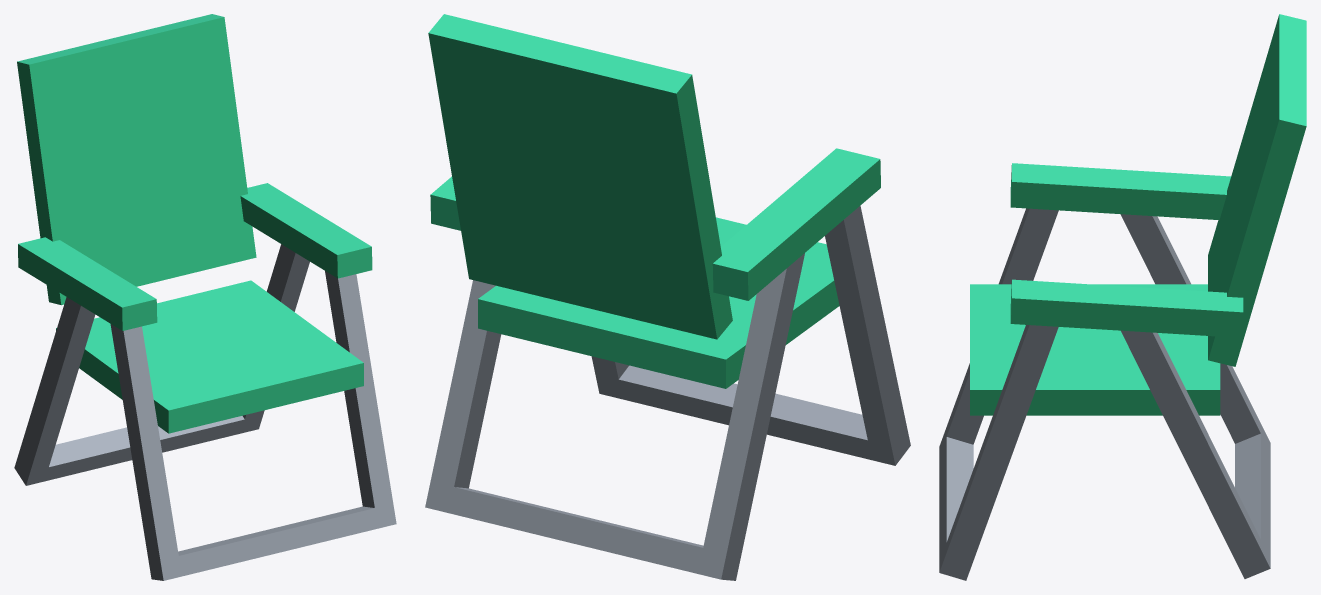
Rendered from SA_Prop_DeckChair_01.glb.
3 views of the same model, side by side, from view 1: azimuth 30°, elevation 25°; view 2: azimuth 150°, elevation 25°; view 3: azimuth 270°, elevation 25° (orthographic). The views are drawn at different scales.
Parts seen in each view (by area): view 1: SA_Prop_DeckChair_01; view 2: SA_Prop_DeckChair_01; view 3: SA_Prop_DeckChair_01.
Part boxes in pixels (box(x1,y1,x2,y2)): SA_Prop_DeckChair_01: box(14, 14, 396, 580); SA_Prop_DeckChair_01: box(425, 14, 910, 580); SA_Prop_DeckChair_01: box(939, 14, 1306, 580).
Size of the model in its own units: 0.4754 by 0.7399 by 0.5461.
1 material, 1 textured.
